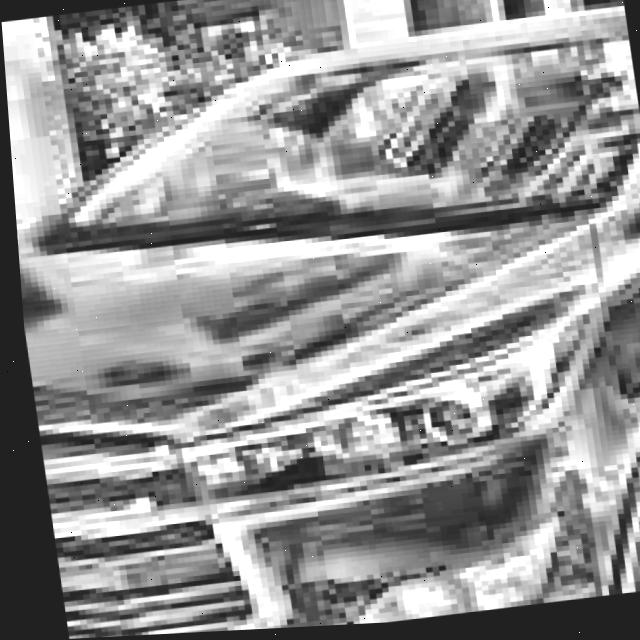light_vehicle: (2, 6, 640, 640)
